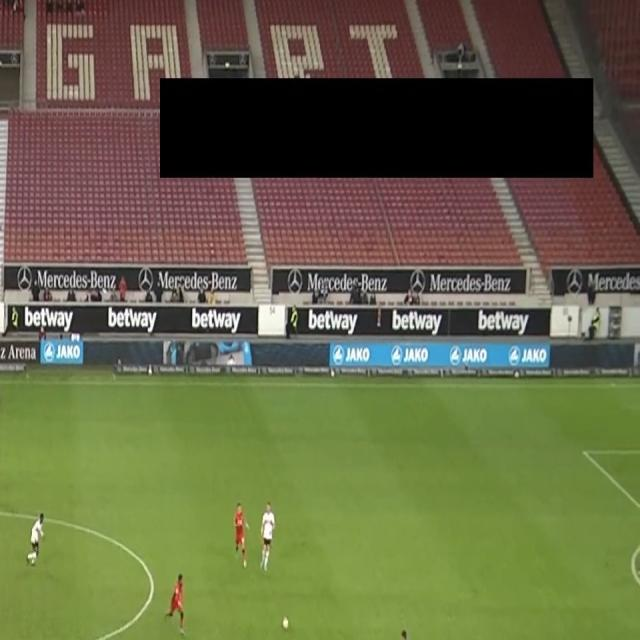ball: (280, 615, 290, 631)
